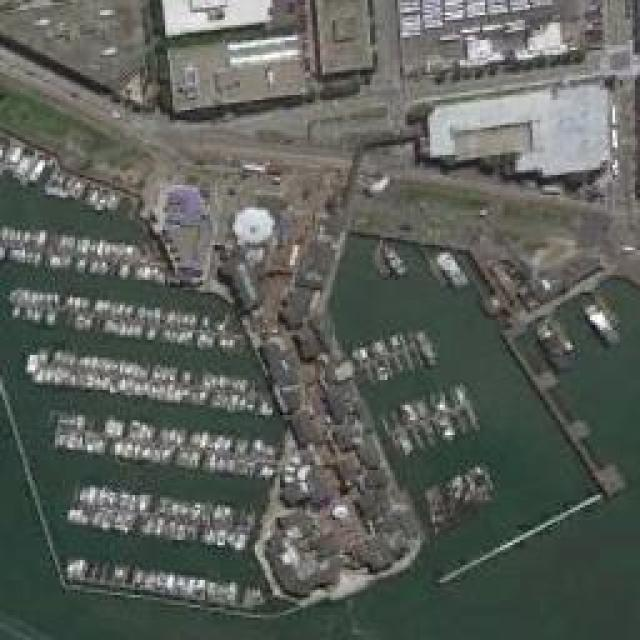Port: (0, 1, 638, 639)
